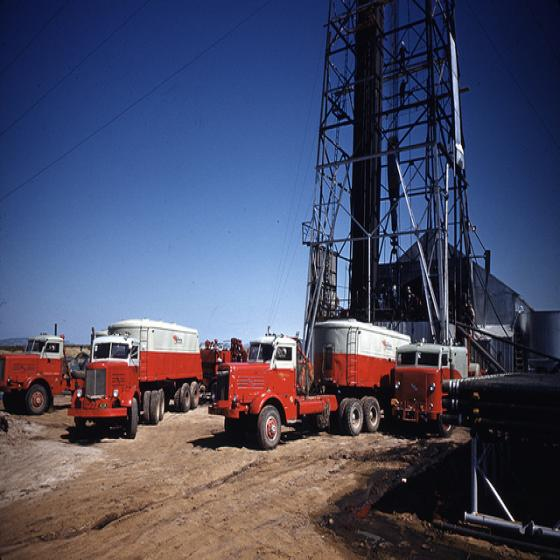truck: (209, 325, 412, 450), (67, 318, 204, 440), (395, 339, 491, 442), (0, 331, 80, 414)
